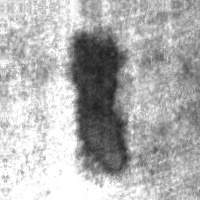patches: (69, 29, 127, 174)
